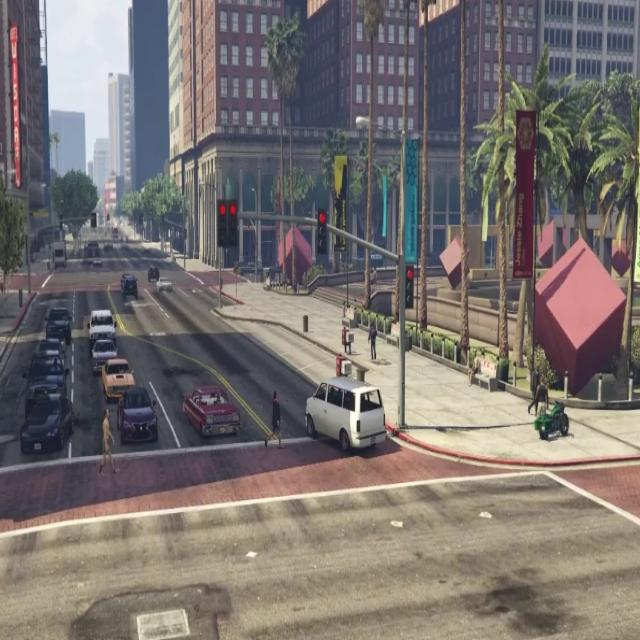Red-Signal: (213, 187, 243, 258), (313, 201, 331, 267), (402, 260, 417, 315)
